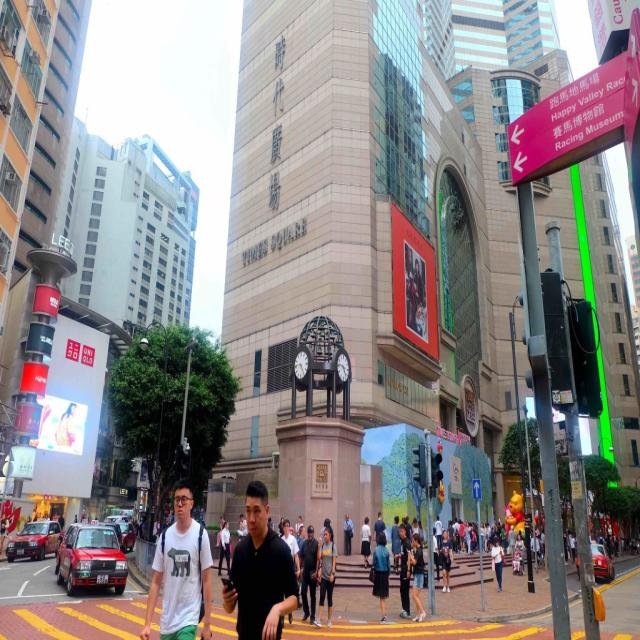body: (220, 479, 301, 640), (139, 476, 214, 639), (34, 394, 88, 460), (489, 533, 632, 555), (81, 509, 161, 546), (404, 247, 434, 345), (313, 523, 338, 629), (279, 518, 301, 630), (298, 525, 320, 626), (368, 531, 391, 623), (285, 516, 307, 610), (406, 531, 428, 623), (392, 524, 412, 619), (216, 518, 234, 577), (439, 530, 454, 593), (491, 536, 507, 593), (294, 525, 307, 588), (390, 516, 402, 576), (359, 515, 372, 568), (373, 511, 387, 548), (514, 534, 526, 576), (214, 515, 227, 549), (432, 527, 440, 582), (344, 512, 354, 556), (0, 512, 10, 556), (31, 513, 41, 554), (530, 531, 541, 568), (446, 521, 456, 561), (434, 515, 444, 553), (451, 516, 461, 554), (463, 520, 473, 555), (319, 518, 332, 544), (400, 516, 410, 542), (482, 523, 490, 555), (469, 524, 477, 556), (294, 515, 304, 539), (472, 521, 479, 553), (501, 523, 508, 554), (417, 519, 424, 550), (570, 534, 577, 563), (512, 552, 522, 572), (239, 513, 249, 533), (459, 520, 465, 552), (277, 516, 285, 539), (411, 517, 420, 535), (479, 520, 484, 551), (266, 516, 275, 532), (57, 513, 65, 531), (562, 530, 568, 553), (541, 530, 546, 556), (490, 521, 500, 534), (162, 516, 171, 530), (451, 518, 466, 525), (517, 530, 525, 542), (631, 534, 636, 553), (598, 534, 606, 545), (634, 534, 638, 555), (24, 516, 32, 526), (43, 512, 51, 522), (612, 531, 616, 551), (406, 516, 414, 526), (73, 513, 78, 523)
